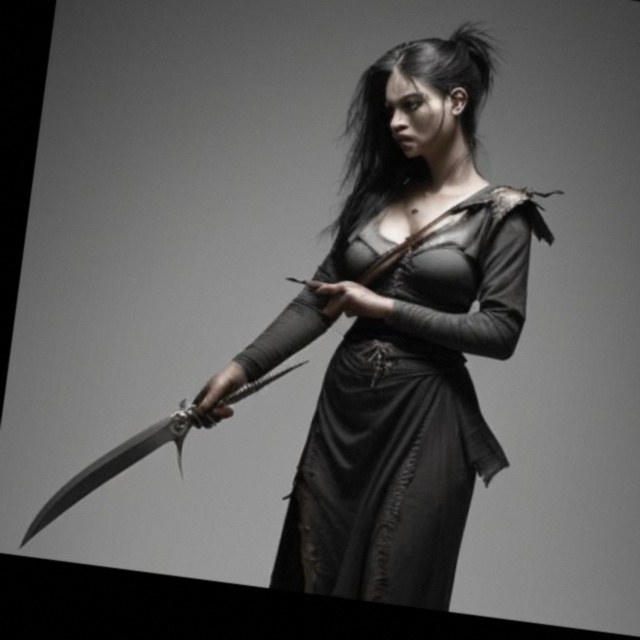Sharp-Object: (17, 321, 312, 584)
